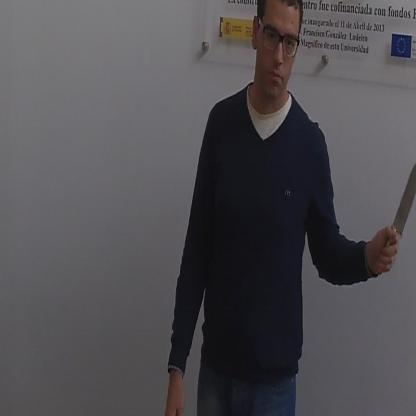knife: (375, 148, 416, 283)
